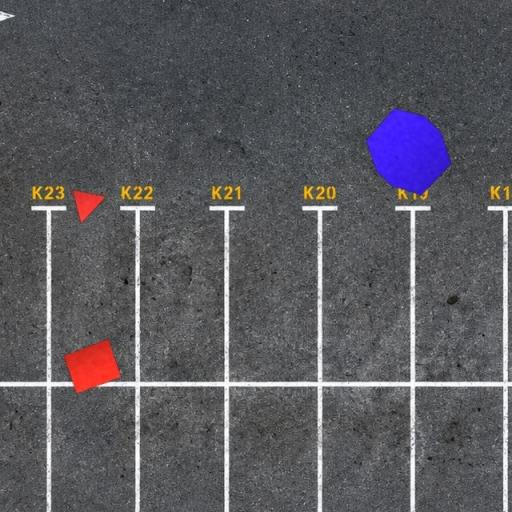RED_SQUARE: (64, 338, 122, 394)
